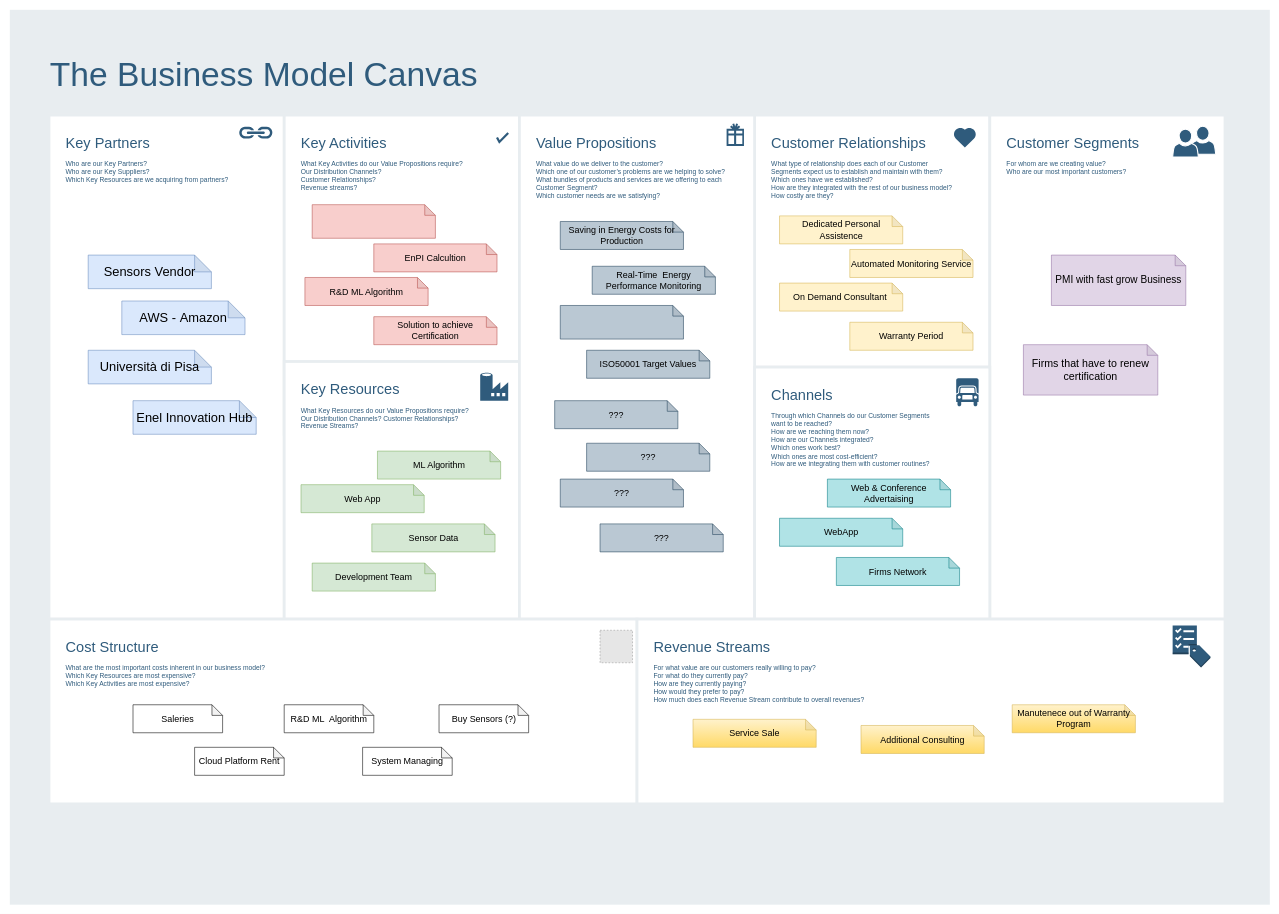
The diagram is 1279 pixels wide and 914 high, and some of its shapes have lost their labels. Grey dashed boxes stand in for pictures. Here are the shapes that lost their labels. From the top down, the centre of each, then its label:
(x=373, y=221): Digital & System Maintenace
(x=621, y=322): Certified Firms are more appiling for their costumers and stakeholders
